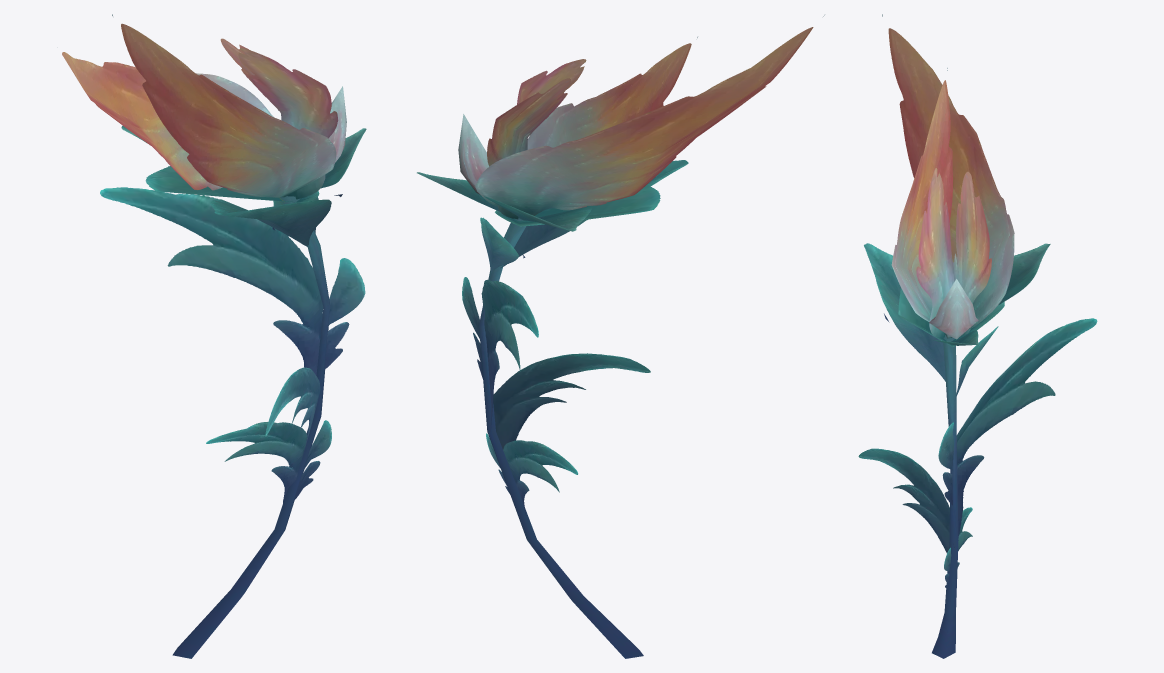
The picture shows the model from 3 angles, left to right: view 1: azimuth 30°, elevation 25°; view 2: azimuth 150°, elevation 25°; view 3: azimuth 270°, elevation 25°; orthographic projection. The views are drawn at different scales.
Size of the model in its own units: 3.91 by 6.83 by 3.2.
Materials: 1 (1 with a texture image).
